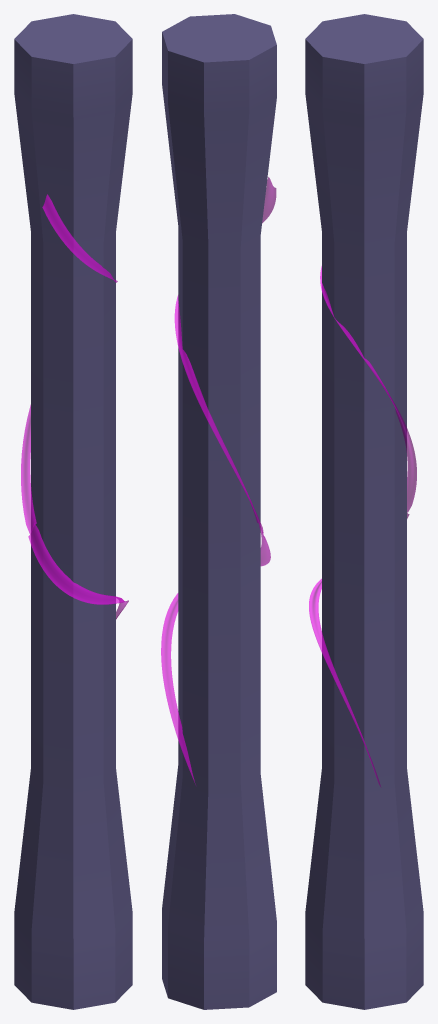
Rendered from antiquePillar_2.fbx.
The picture shows the model from 3 angles, left to right: view 1: azimuth 90°, elevation 25°; view 2: azimuth 210°, elevation 25°; view 3: azimuth 270°, elevation 25°; orthographic projection.
Parts seen in each view (by area): view 1: Pillar, Deco; view 2: Pillar, Deco; view 3: Pillar, Deco.
Part boxes in pixels (x1,y1,x2,y2): Pillar: (14,14,132,1009); Deco: (21,194,128,619); Pillar: (162,14,276,1009); Deco: (161,177,276,784); Pillar: (305,14,423,1009); Deco: (309,266,416,786).
Size of the model in its own units: 5.94 by 52.21 by 5.94.
